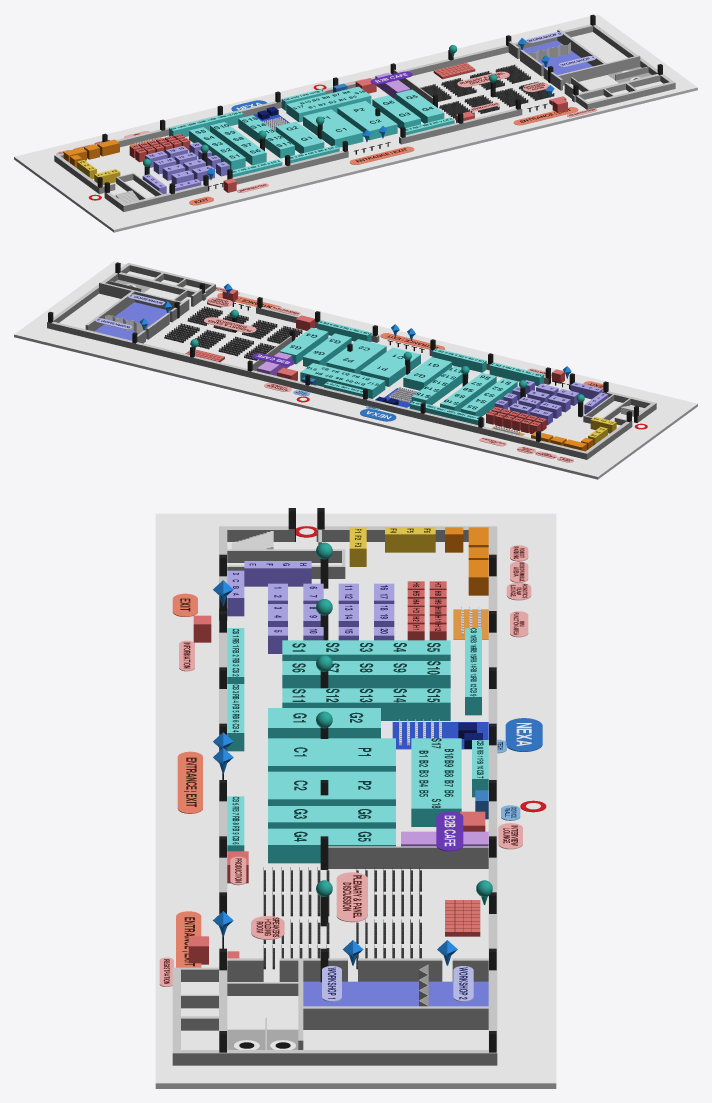
Rendered from iotcon2026-floorplan.glb.
3 views of the same model, one above another, from view 1: azimuth 30°, elevation 25°; view 2: azimuth 150°, elevation 25°; view 3: azimuth 270°, elevation 25° (orthographic). The views are drawn at different scales.
Parts seen in each view (by area): view 1: site-slab, wall-back, booths, columns, text-0E3B3C, wall-front-3, wall-front-2, wall-workshop-bottom, C1, C2, wall-front-1, wall-lobby-bottom (+21 smaller); view 2: site-slab, wall-back, booths, columns, text-0E3B3C, P1, workshop-1, wall-workshop-bottom, wall-front-4, P2, wall-right, wall-lobby-bottom (+22 smaller); view 3: site-slab, columns, wall-right, booths, wall-workshop-ahu, text-0E3B3C, wall-back, wall-partition, workshop-1, C1, C2, P2 (+31 smaller).
Part boxes in pixels (x1=…): site-slab: x1=14, y1=14, x2=697, y2=232; wall-back: x1=54, y1=24, x2=595, y2=162; booths: x1=145, y1=142, x2=229, y2=184; columns: x1=97, y1=14, x2=662, y2=197; text-0E3B3C: x1=171, y1=90, x2=452, y2=172; wall-front-3: x1=399, y1=108, x2=522, y2=144; wall-front-2: x1=232, y1=150, x2=348, y2=184; wall-workshop-bottom: x1=557, y1=55, x2=640, y2=85; C1: x1=321, y1=120, x2=363, y2=147; C2: x1=352, y1=112, x2=397, y2=140; wall-front-1: x1=121, y1=184, x2=207, y2=211; wall-lobby-bottom: x1=587, y1=82, x2=675, y2=108; site-slab: x1=14, y1=261, x2=697, y2=479; wall-back: x1=47, y1=321, x2=589, y2=459; booths: x1=494, y1=380, x2=579, y2=425; columns: x1=48, y1=262, x2=638, y2=441; text-0E3B3C: x1=290, y1=321, x2=540, y2=418; P1: x1=360, y1=359, x2=404, y2=386; workshop-1: x1=114, y1=302, x2=169, y2=331; wall-workshop-bottom: x1=99, y1=282, x2=181, y2=310; wall-front-4: x1=114, y1=272, x2=206, y2=300; P2: x1=326, y1=351, x2=370, y2=374; wall-right: x1=47, y1=263, x2=131, y2=328; wall-lobby-bottom: x1=128, y1=263, x2=215, y2=289; site-slab: x1=155, y1=513, x2=556, y2=1088; columns: x1=219, y1=508, x2=496, y2=1052; wall-right: x1=172, y1=1050, x2=496, y2=1065; booths: x1=268, y1=583, x2=394, y2=653; wall-workshop-ahu: x1=298, y1=1006, x2=488, y2=1029; text-0E3B3C: x1=232, y1=628, x2=483, y2=844; wall-back: x1=488, y1=526, x2=497, y2=1065; wall-partition: x1=328, y1=846, x2=488, y2=868; workshop-1: x1=303, y1=981, x2=418, y2=1006; C1: x1=268, y1=738, x2=333, y2=771; C2: x1=268, y1=771, x2=333, y2=805; P2: x1=333, y1=771, x2=395, y2=805.
Bounding box in the file's own units: 160 × 6.55 × 47.5.
